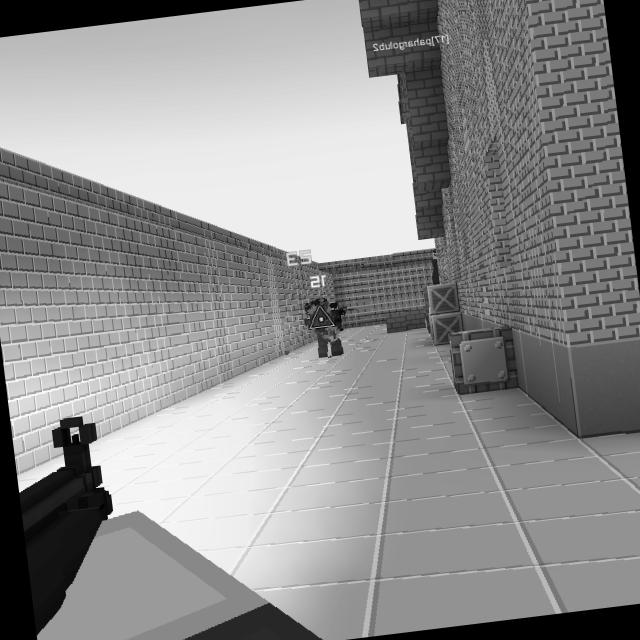enemy: (301, 295, 344, 360), (328, 300, 348, 333), (427, 248, 440, 284)
